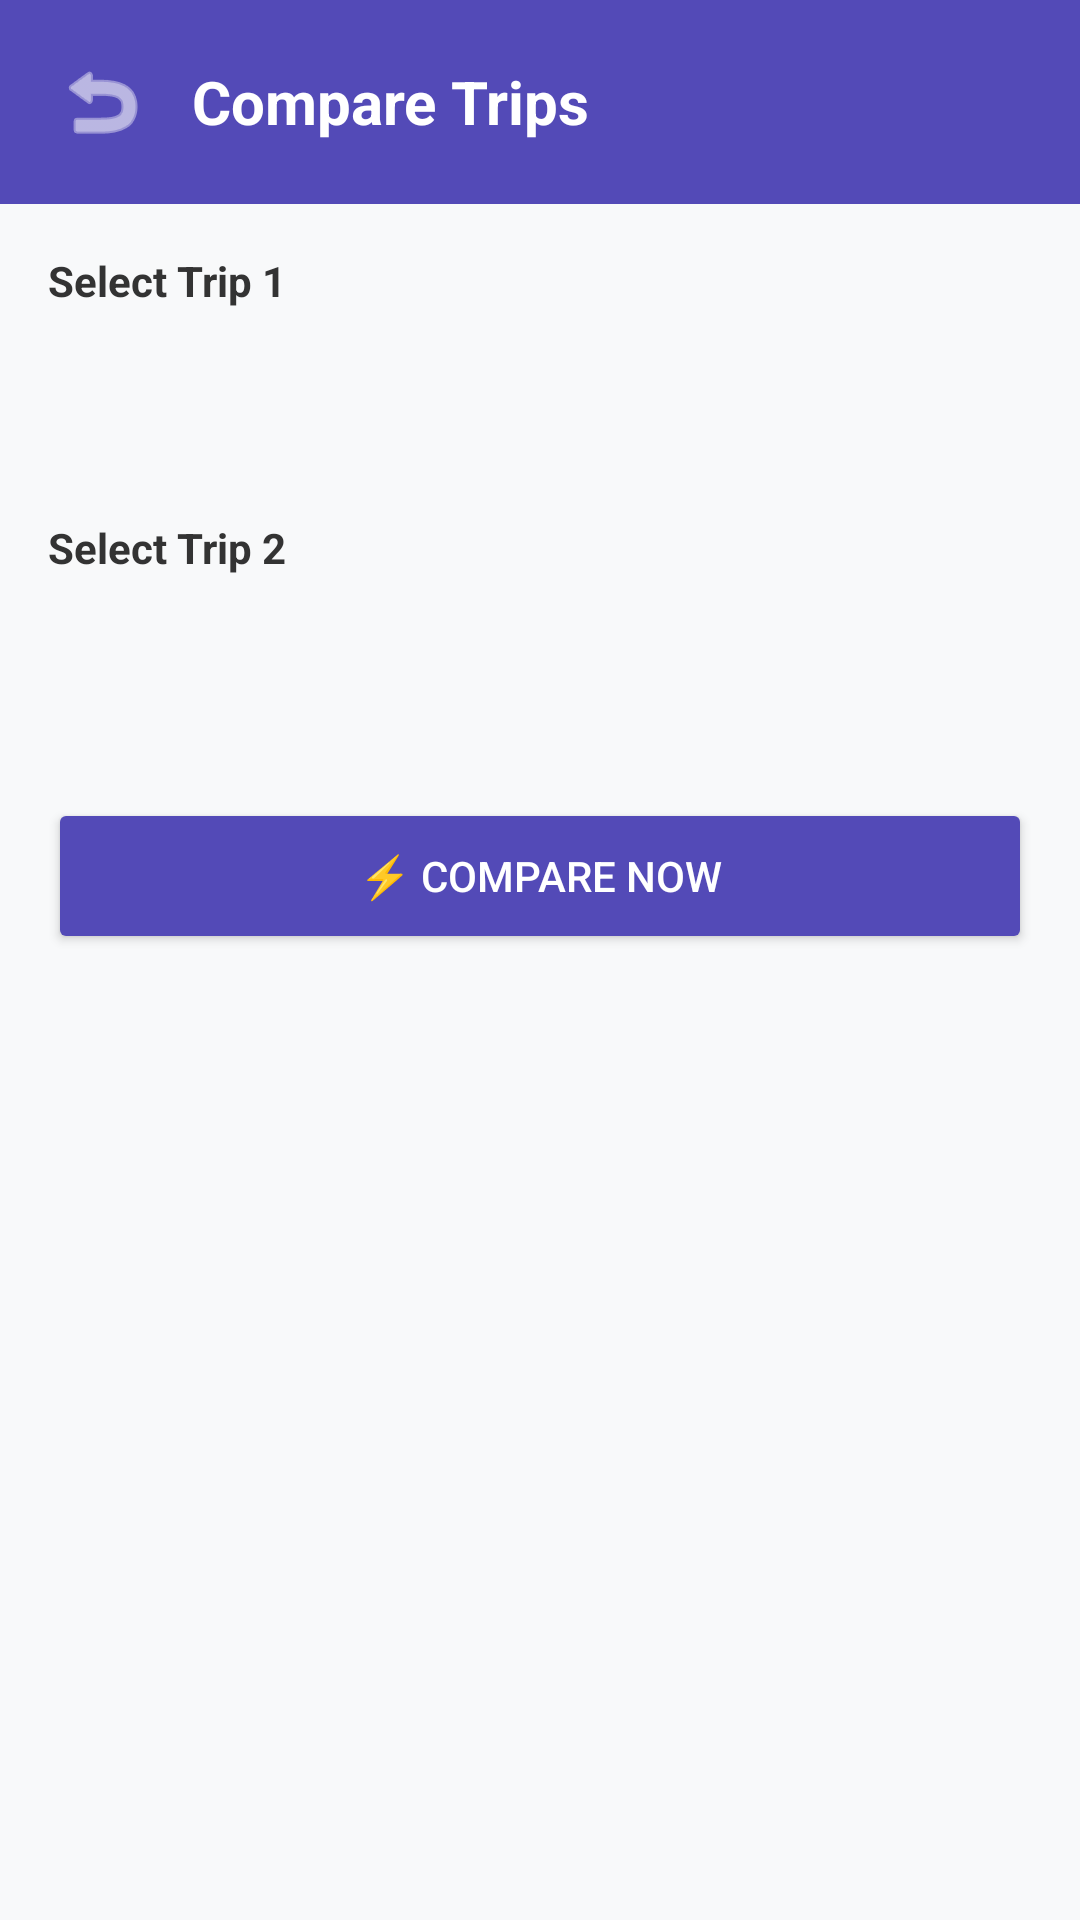

Point at icon controls on the screen. Image size 1080 × 1920, points as point (x, y).
Back: point (103, 102)
